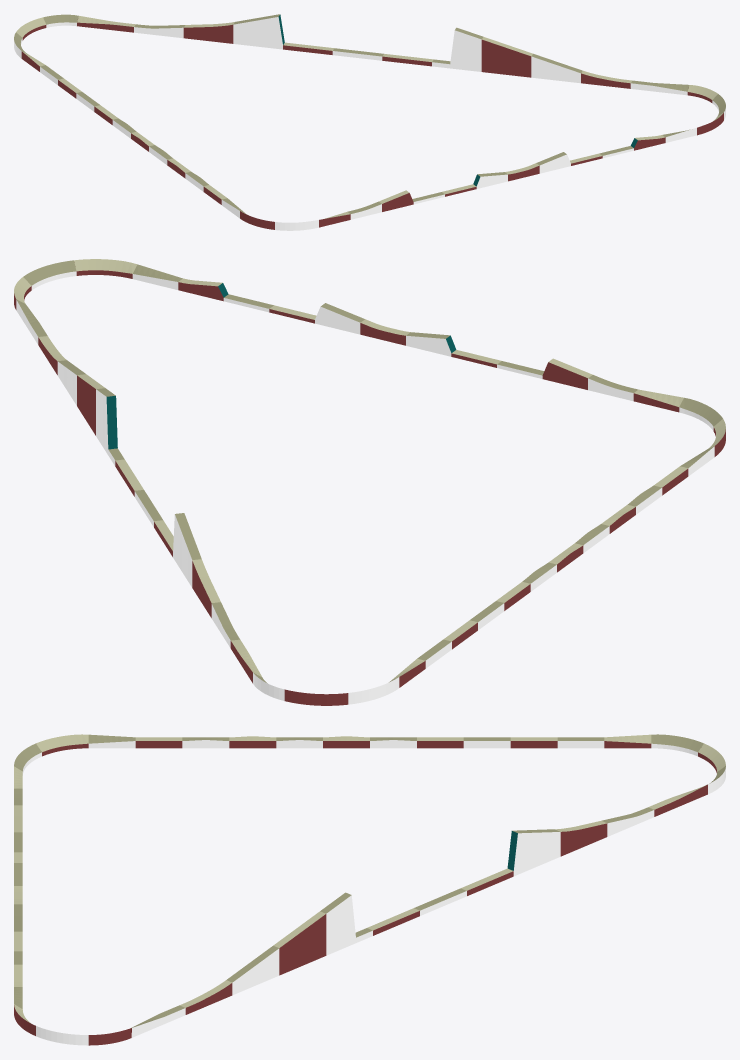
File: big-ramp.glb
3 renders of one model, top to bottom at view 1: azimuth 30°, elevation 25°; view 2: azimuth 150°, elevation 25°; view 3: azimuth 270°, elevation 25°, orthographic. The views are drawn at different scales.
Parts seen in each view (by area): view 1: big-ramp; view 2: big-ramp; view 3: big-ramp.
Part boxes in pixels (left/top/right/bottom): big-ramp: left=14, top=14, right=725, bottom=230; big-ramp: left=14, top=259, right=725, bottom=705; big-ramp: left=14, top=734, right=725, bottom=1045.
Size of the model in its own units: 30.38 by 2.35 by 30.38.
